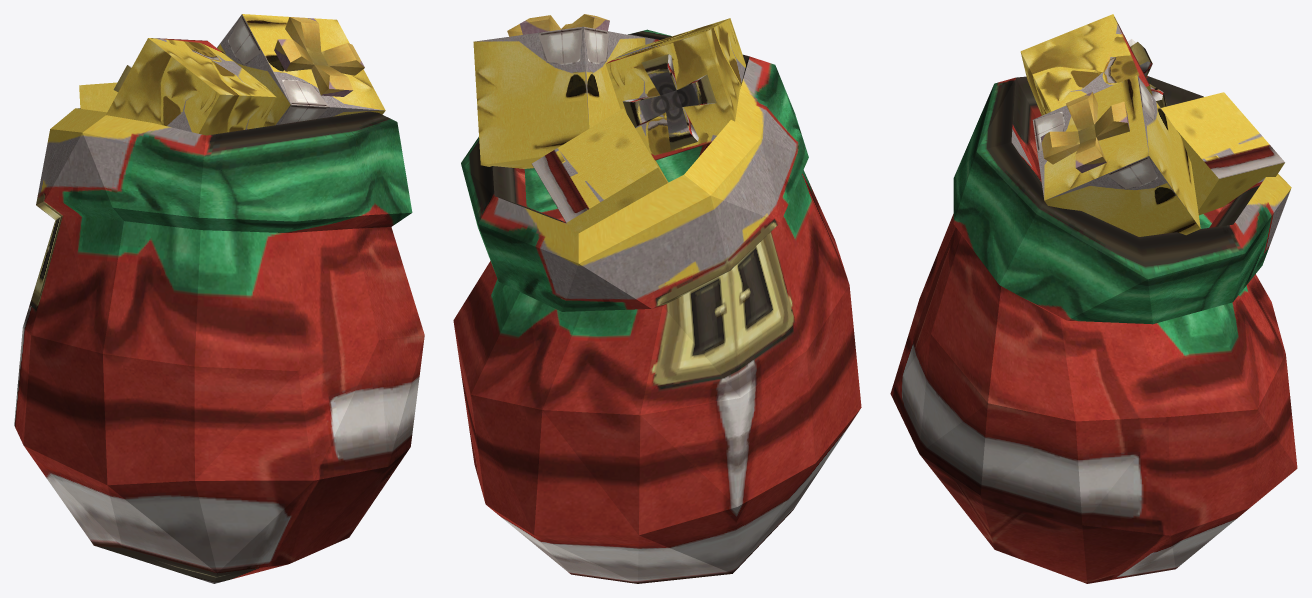
The model's file is Mole_santaBag.obj.
3 renders of one model, left to right at view 1: azimuth 30°, elevation 25°; view 2: azimuth 150°, elevation 25°; view 3: azimuth 270°, elevation 25°, orthographic. The views are drawn at different scales.
Visible parts, largest first — view 1: Mole_santaBag_tri; view 2: Mole_santaBag_tri; view 3: Mole_santaBag_tri.
Boxes of the visible parts, box(x1,y1,x2,y2) form: Mole_santaBag_tri: box(14, 14, 424, 583); Mole_santaBag_tri: box(453, 14, 861, 583); Mole_santaBag_tri: box(890, 14, 1297, 583).
Bounding box in the file's own units: 0.4196 × 0.6192 × 0.4398.
1 material, 1 textured.
